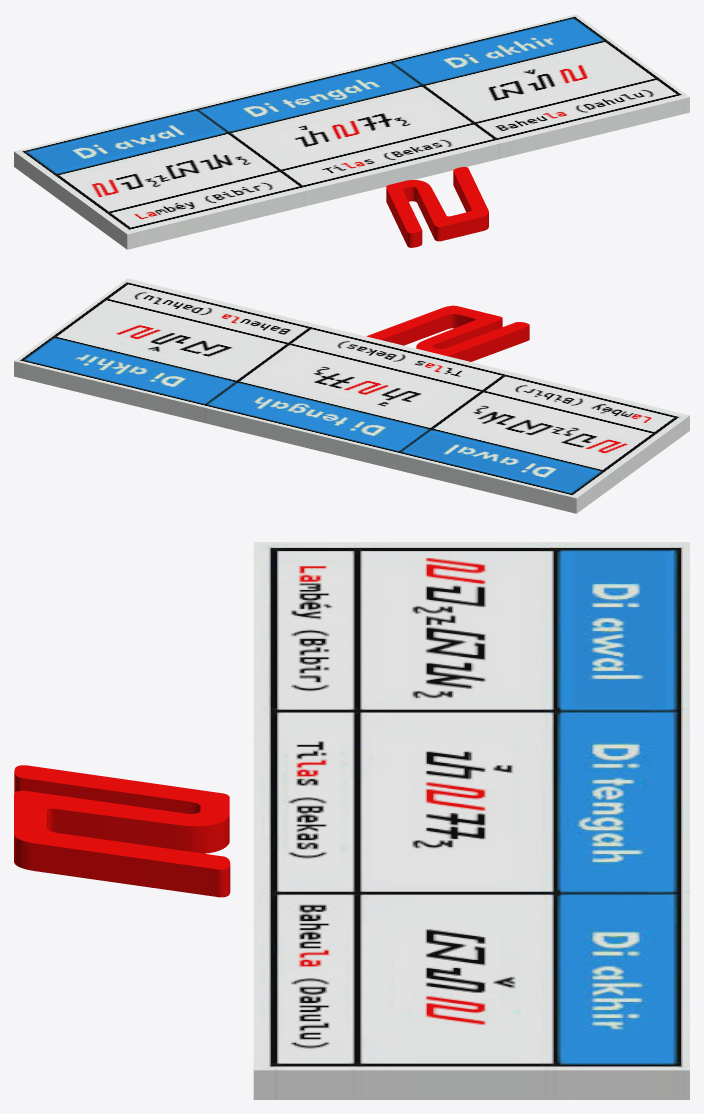
3 renders of one model, top to bottom at view 1: azimuth 30°, elevation 25°; view 2: azimuth 150°, elevation 25°; view 3: azimuth 270°, elevation 25°, orthographic. The views are drawn at different scales.
Visible parts, largest first — view 1: contoh-bunyi-huruf-la-Ngalagena, Text; view 2: contoh-bunyi-huruf-la-Ngalagena, Text; view 3: contoh-bunyi-huruf-la-Ngalagena, Text.
Part boxes in pixels (bbox=[...]): contoh-bunyi-huruf-la-Ngalagena: bbox=[14, 14, 689, 249]; Text: bbox=[386, 167, 488, 247]; contoh-bunyi-huruf-la-Ngalagena: bbox=[14, 278, 689, 513]; Text: bbox=[366, 305, 529, 361]; contoh-bunyi-huruf-la-Ngalagena: bbox=[253, 542, 689, 1099]; Text: bbox=[14, 765, 230, 897].
Size of the model in its own units: 2.86 by 0.11 by 1.55.
Materials: 2 (1 with a texture image).
